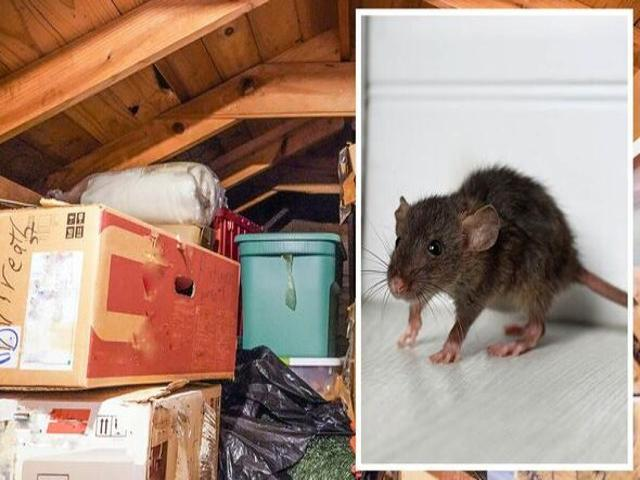Tikus: (384, 162, 620, 368)
